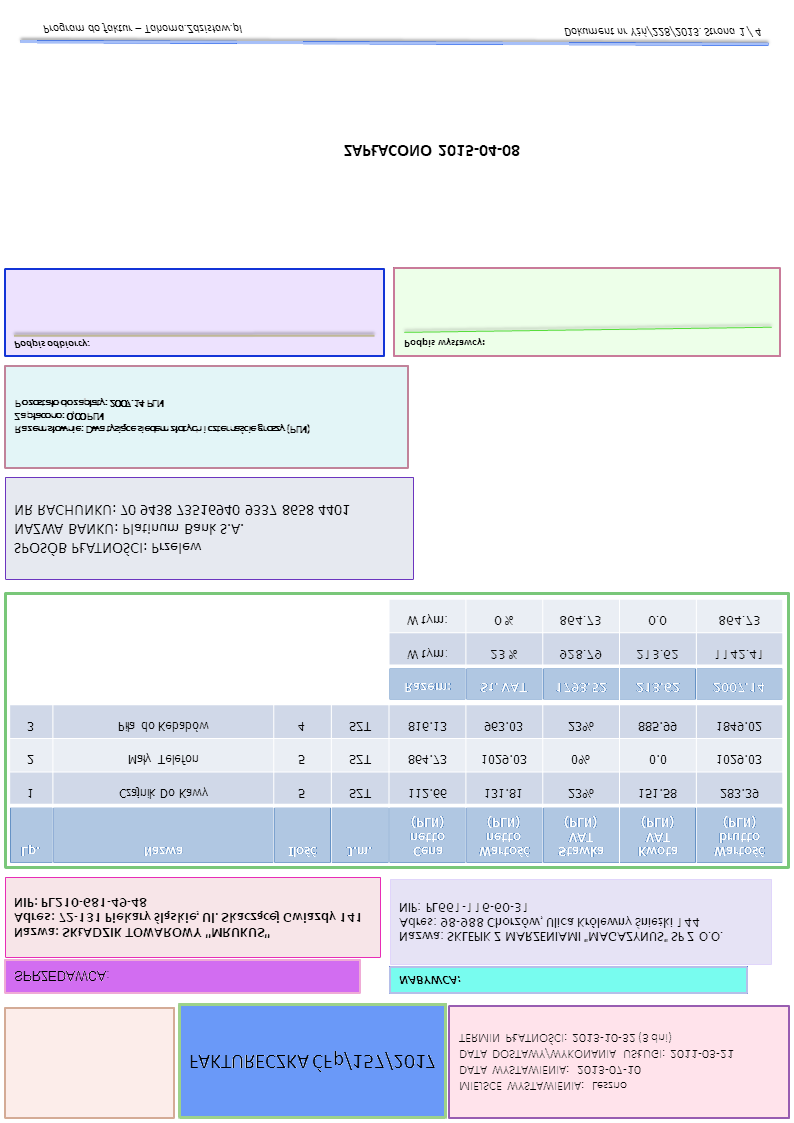Table: (7, 707, 781, 866), (386, 599, 785, 703)
TextBox: (8, 499, 354, 561), (452, 1026, 738, 1096), (10, 891, 363, 946), (394, 897, 726, 949), (11, 395, 316, 440), (181, 1047, 438, 1080), (36, 16, 245, 43), (335, 139, 524, 165), (561, 22, 768, 41), (8, 968, 111, 987), (10, 333, 93, 356), (395, 334, 487, 353), (395, 970, 461, 990)
